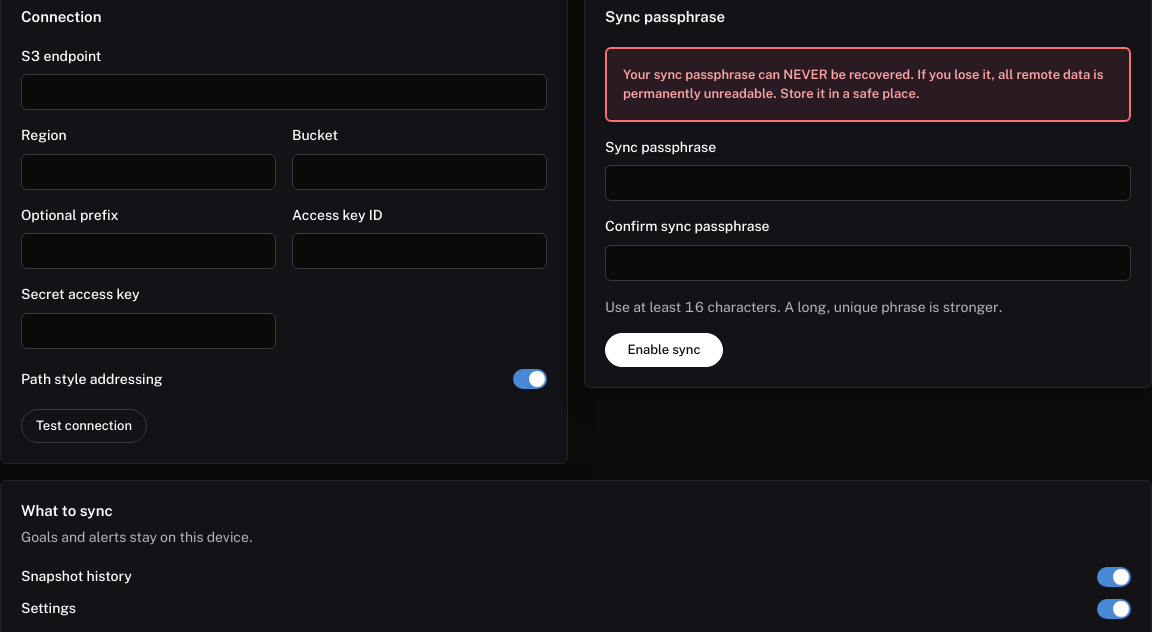
Test: Sync settings page › keeps the successful connection status text alongside its toast
The width and height of the screenshot is (1152, 632).
Type "https://s3.example.test" into the field labelled "S3 endpoint" at (284,92), box [21, 74, 547, 110]
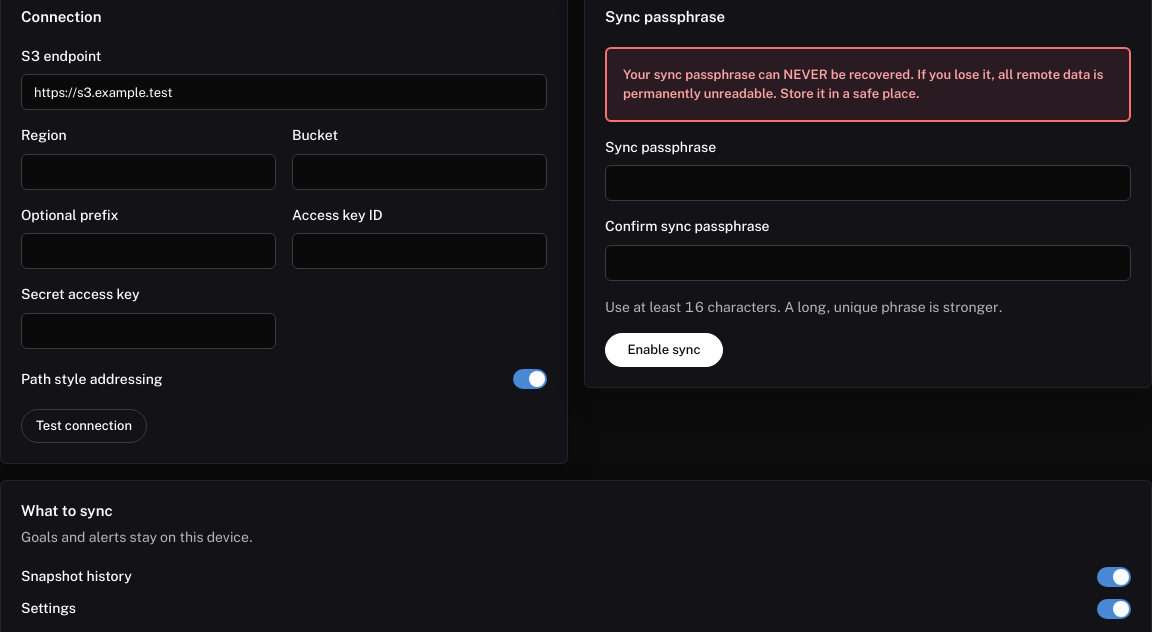
Type "us-east-1" into the field labelled "Region" at (148,172), box [21, 154, 276, 190]
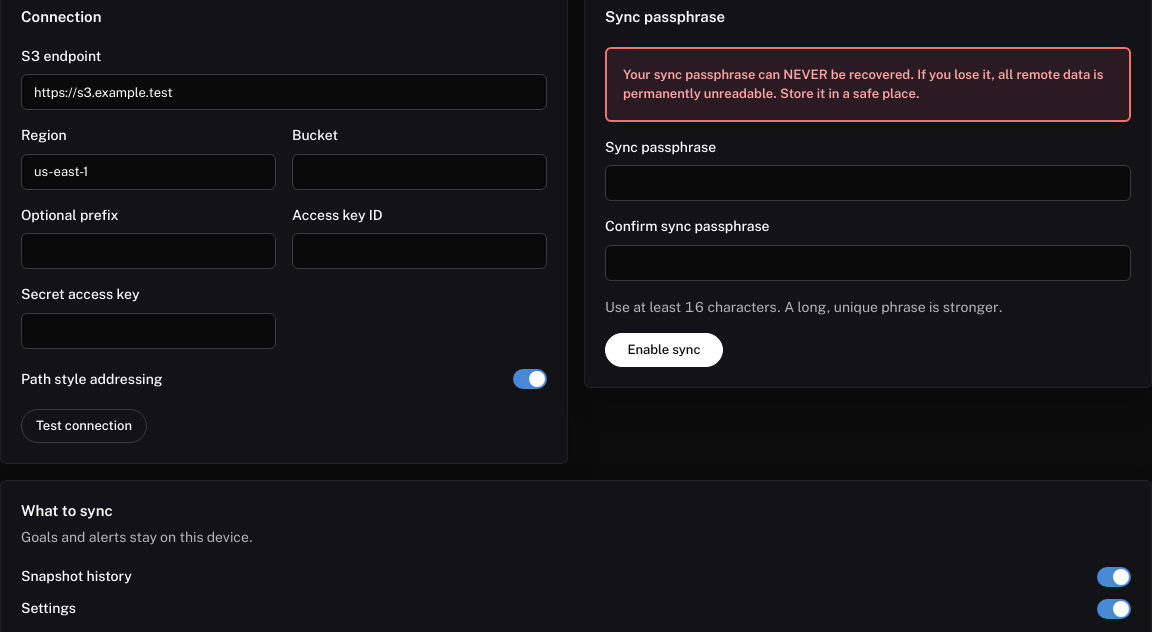
Type "track3" into the field labelled "Bucket" at (420,172), box [292, 154, 547, 190]
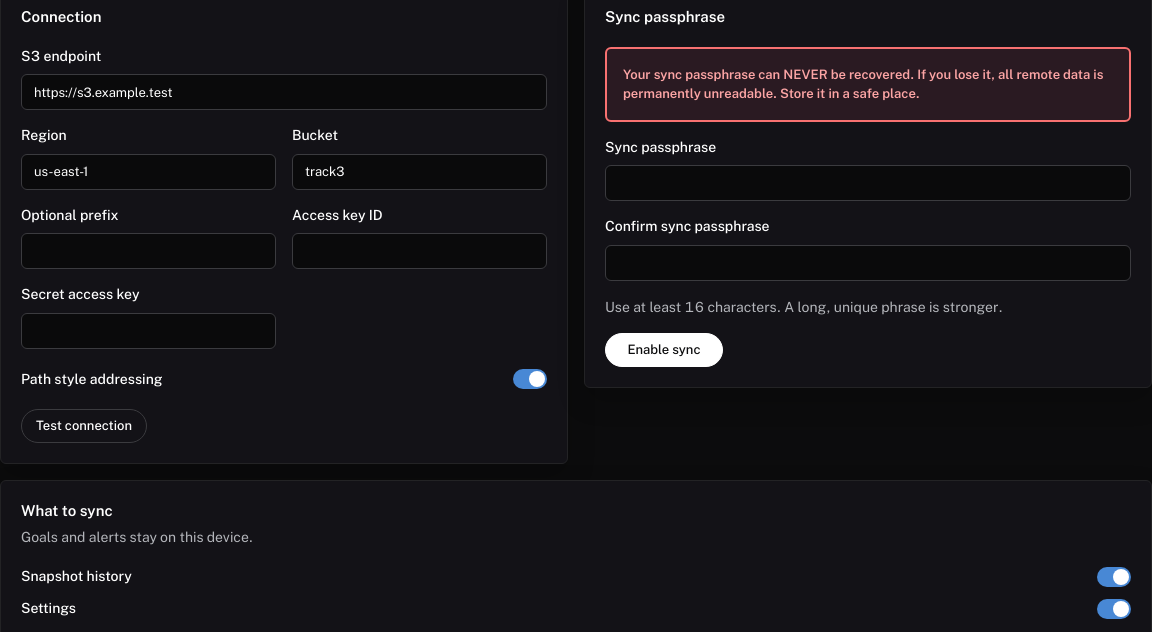
Type "key" into the password field labelled "Access key ID" at (420,251), box [292, 233, 547, 269]
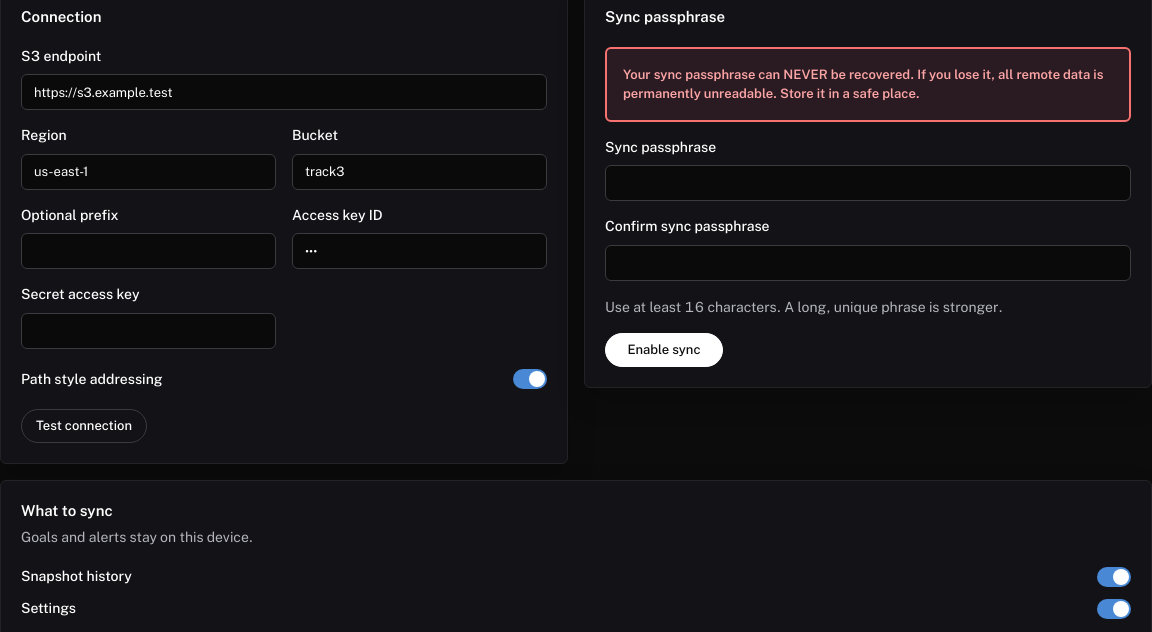
Type "secret" into the password field labelled "Secret access key" at (148,331), box [21, 313, 276, 349]
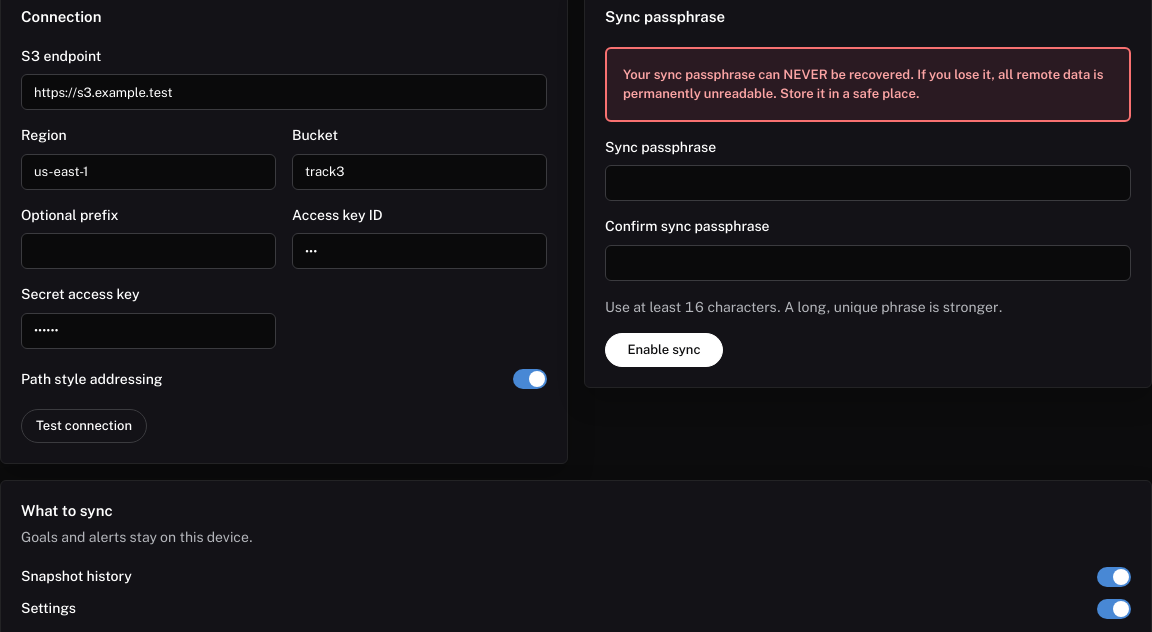
Click the button "Test connection" at (84,426), box [21, 409, 147, 443]
(page scrolled)
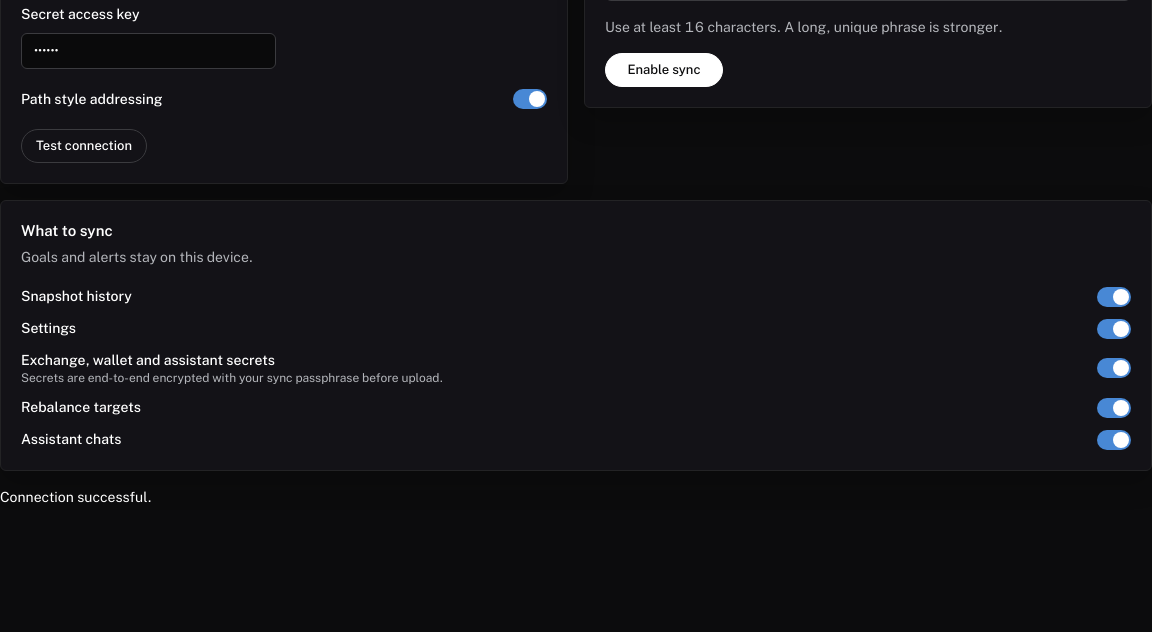
Result: the text "Connection successful." is shown at [0, 489, 152, 505]
